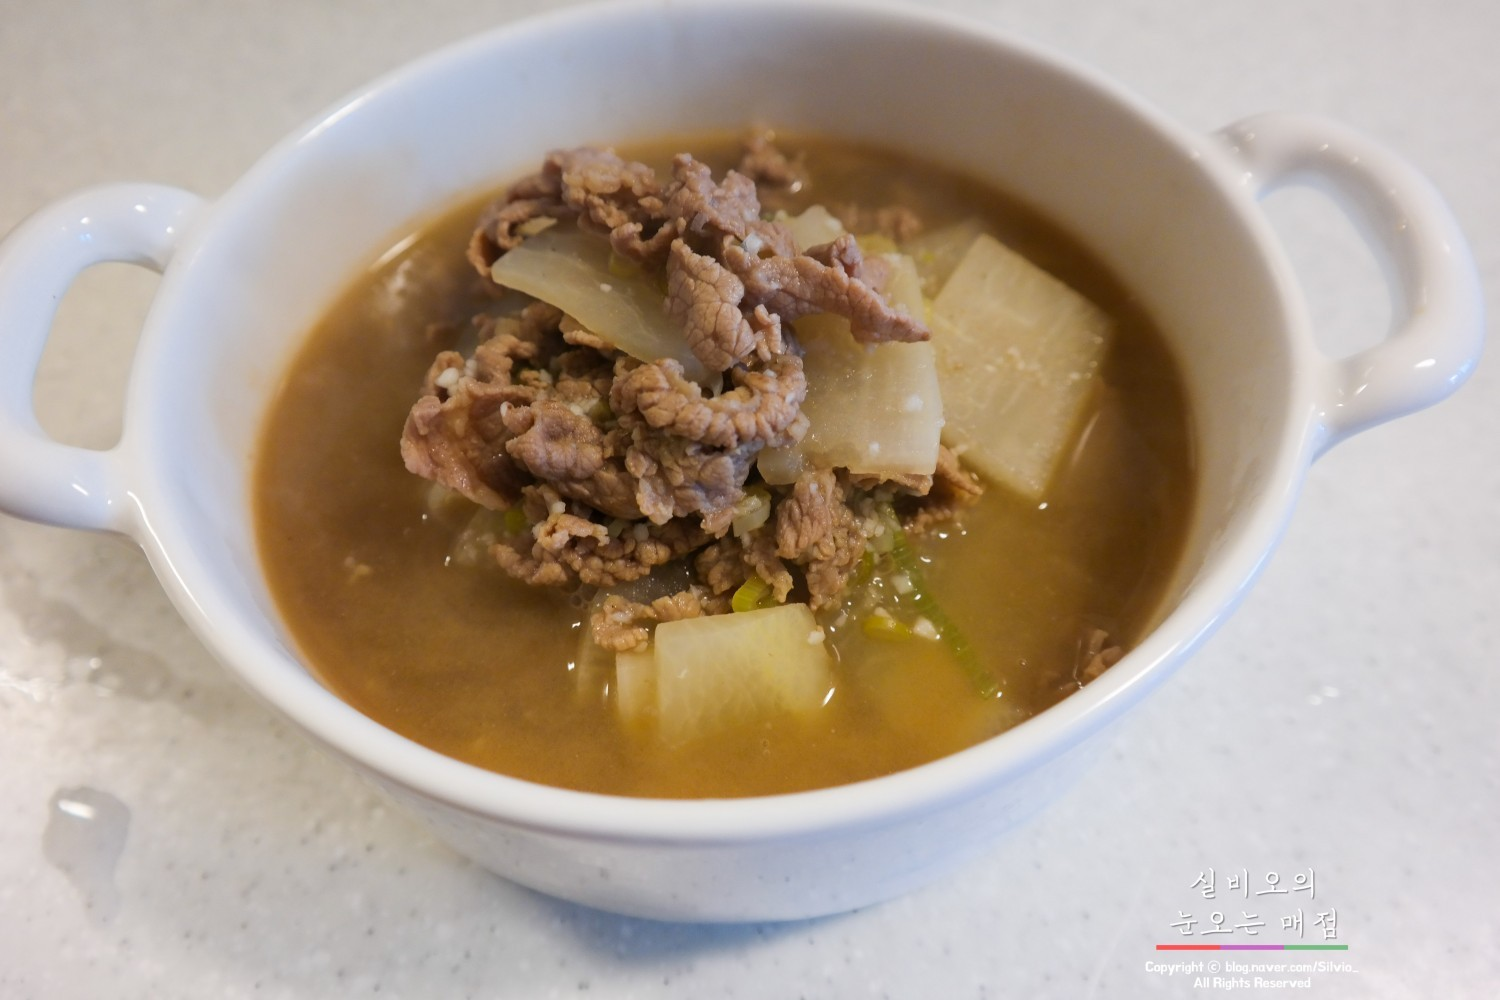mugug: (237, 113, 1213, 798)
